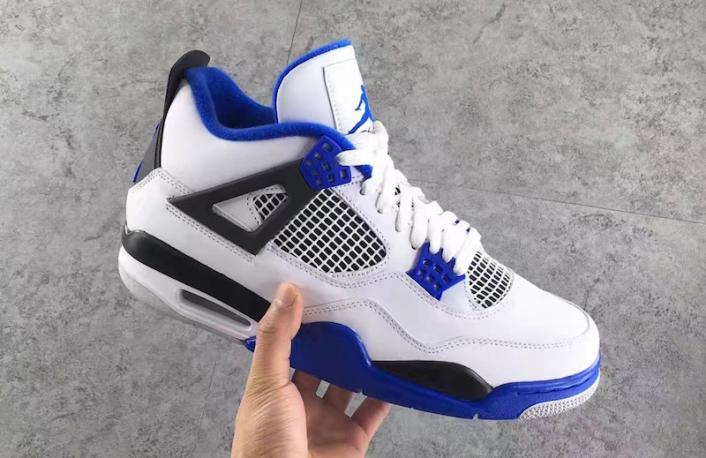Air Jordan 4 Motorsport: (92, 24, 608, 424)
